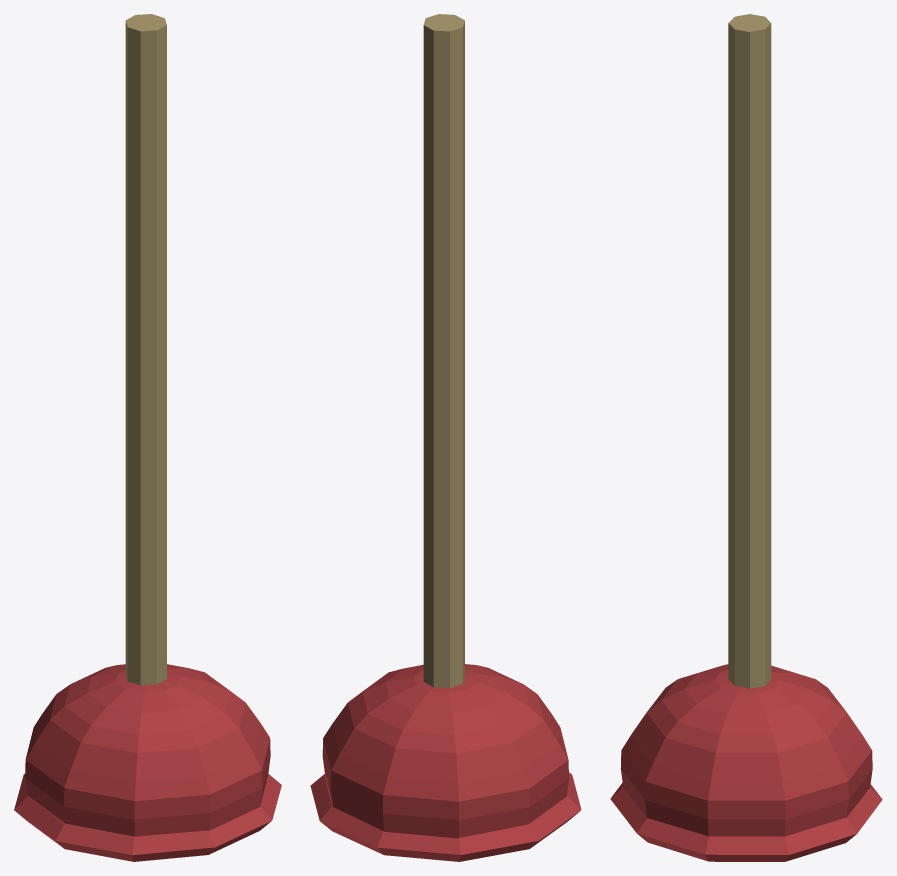
File: Toiletplunger.fbx
3 views of the same model, side by side, from view 1: azimuth 30°, elevation 25°; view 2: azimuth 150°, elevation 25°; view 3: azimuth 270°, elevation 25° (orthographic).
Parts seen in each view (by area): view 1: Sphere, Cylinder, Torus; view 2: Sphere, Cylinder, Torus; view 3: Sphere, Cylinder, Torus.
Boxes of the visible parts, x1=… form: Sphere: x1=25, y1=664, x2=270, y2=836; Cylinder: x1=125, y1=14, x2=166, y2=685; Torus: x1=14, y1=773, x2=281, y2=861; Sphere: x1=322, y1=664, x2=568, y2=838; Cylinder: x1=423, y1=14, x2=464, y2=688; Torus: x1=310, y1=772, x2=581, y2=861; Sphere: x1=620, y1=664, x2=872, y2=836; Cylinder: x1=728, y1=14, x2=771, y2=688; Torus: x1=610, y1=783, x2=882, y2=861.
Bounding box in the file's own units: 123 × 407 × 127.
